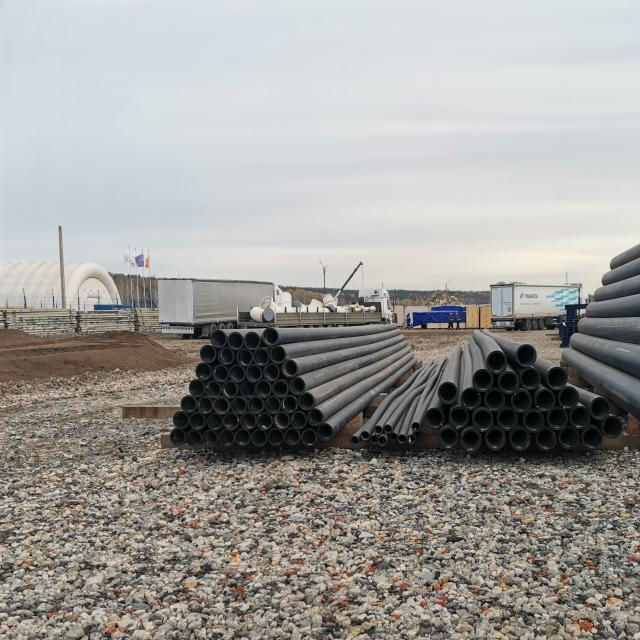pipe: (509, 427, 531, 451), (486, 350, 508, 374), (498, 371, 520, 395), (523, 409, 545, 432), (546, 367, 568, 390), (460, 429, 481, 453), (536, 427, 557, 451), (582, 426, 603, 450), (601, 415, 622, 439), (558, 386, 579, 410), (438, 427, 459, 450), (472, 409, 493, 432), (485, 427, 506, 450), (559, 426, 580, 449), (590, 397, 611, 420), (570, 406, 591, 429), (547, 407, 568, 430), (497, 408, 518, 431), (460, 387, 481, 410), (484, 389, 505, 412), (511, 390, 532, 413), (535, 389, 556, 412), (520, 367, 541, 390), (516, 344, 537, 367), (472, 369, 493, 392), (448, 407, 469, 429), (438, 382, 458, 405), (424, 407, 444, 429), (212, 396, 230, 415), (281, 359, 298, 378), (221, 380, 238, 399), (273, 411, 290, 430), (247, 395, 264, 414), (230, 396, 247, 415), (262, 327, 279, 345), (269, 345, 286, 363), (217, 347, 234, 365), (263, 363, 280, 381), (212, 364, 229, 382), (195, 363, 212, 381), (188, 379, 205, 397), (272, 379, 289, 397), (290, 411, 307, 429), (281, 395, 298, 413), (264, 396, 281, 414), (256, 412, 273, 430), (189, 412, 206, 430), (253, 347, 269, 366), (229, 364, 245, 383), (240, 411, 256, 430), (284, 427, 300, 446), (210, 330, 226, 348), (227, 332, 243, 350), (244, 332, 260, 350), (237, 348, 253, 366), (246, 364, 262, 382), (205, 380, 221, 398), (289, 377, 305, 395), (298, 392, 314, 410), (307, 408, 323, 426), (223, 412, 239, 430), (173, 411, 189, 429), (251, 429, 267, 447), (301, 429, 317, 447), (317, 423, 333, 441), (256, 379, 271, 398), (200, 345, 216, 362), (240, 381, 256, 398), (207, 413, 223, 430), (170, 428, 186, 445), (186, 429, 202, 446), (202, 430, 218, 447), (235, 429, 251, 446), (197, 396, 212, 414), (181, 395, 196, 413), (219, 429, 234, 447), (268, 428, 283, 446), (350, 436, 359, 446), (360, 431, 369, 441), (378, 436, 387, 446), (383, 424, 392, 434), (389, 432, 398, 442), (407, 434, 416, 444), (411, 422, 420, 432), (370, 435, 378, 445), (374, 425, 382, 435), (398, 434, 406, 444)
